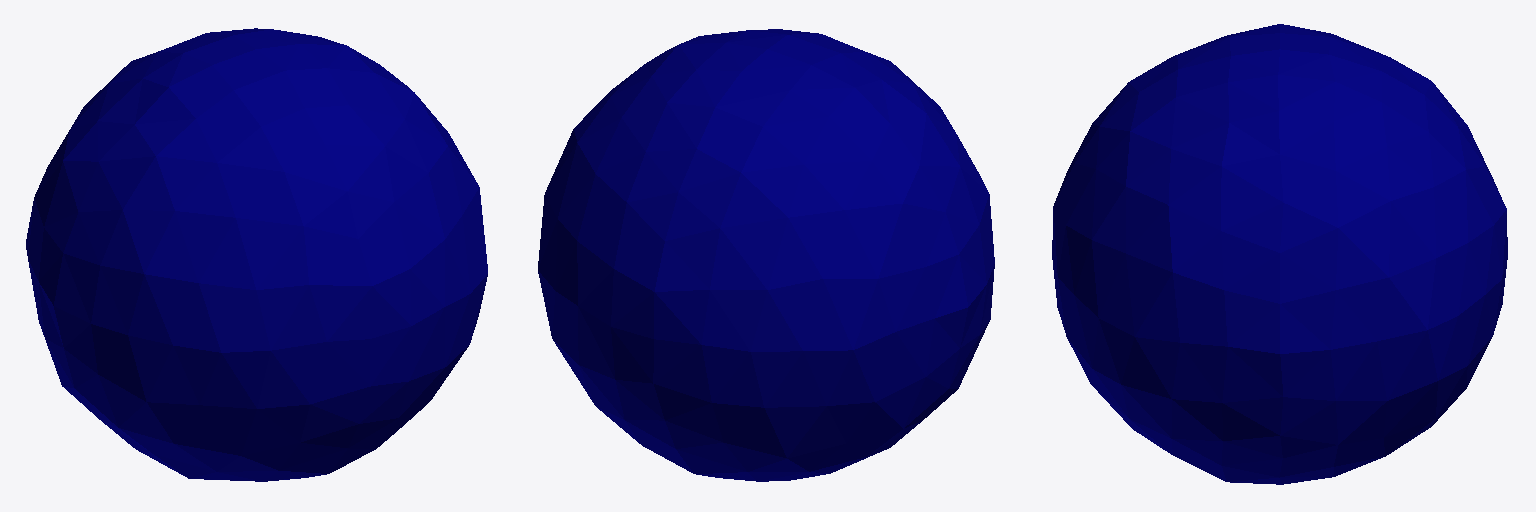
3 views of the same model, side by side, from view 1: azimuth 30°, elevation 25°; view 2: azimuth 150°, elevation 25°; view 3: azimuth 270°, elevation 25° (orthographic).
Parts seen in each view (by area): view 1: GeoSphere001; view 2: GeoSphere001; view 3: GeoSphere001.
Boxes of the visible parts, x1=… form: GeoSphere001: x1=26, y1=28, x2=487, y2=481; GeoSphere001: x1=538, y1=29, x2=994, y2=481; GeoSphere001: x1=1052, y1=24, x2=1507, y2=484.
Bounding box in the file's own units: 83.31 × 81.72 × 81.66.